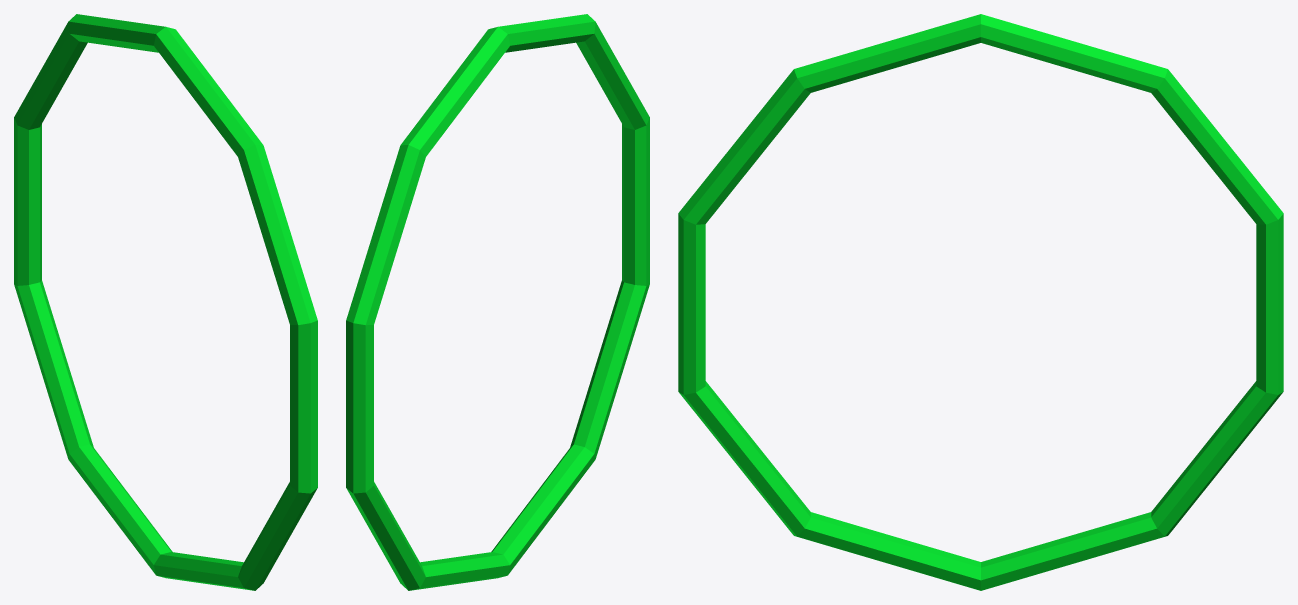
Rendered from ring.gltf.
The picture shows the model from 3 angles, left to right: view 1: azimuth 30°, elevation 25°; view 2: azimuth 150°, elevation 25°; view 3: azimuth 270°, elevation 25°; orthographic projection. The views are drawn at different scales.
Visible parts, largest first — view 1: Torus; view 2: Torus; view 3: Torus.
Part boxes in pixels (x1,y1,x2,y2): Torus: [14, 14, 317, 590]; Torus: [346, 14, 649, 590]; Torus: [678, 14, 1283, 590].
Size of the model in its own units: 0.0975 by 2.1 by 2.
